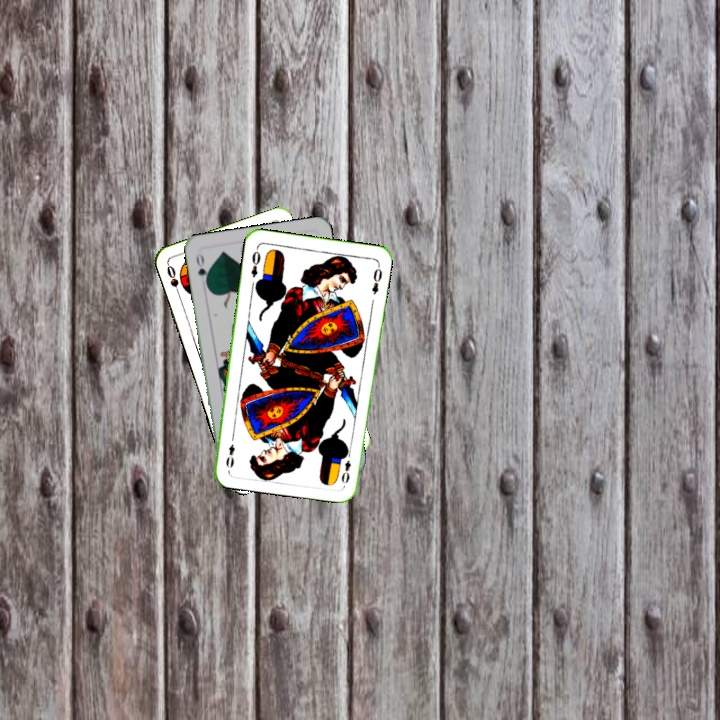EO: (337, 447, 354, 486), (247, 244, 263, 280)
GO: (192, 250, 211, 289)
SO: (163, 261, 183, 300)
